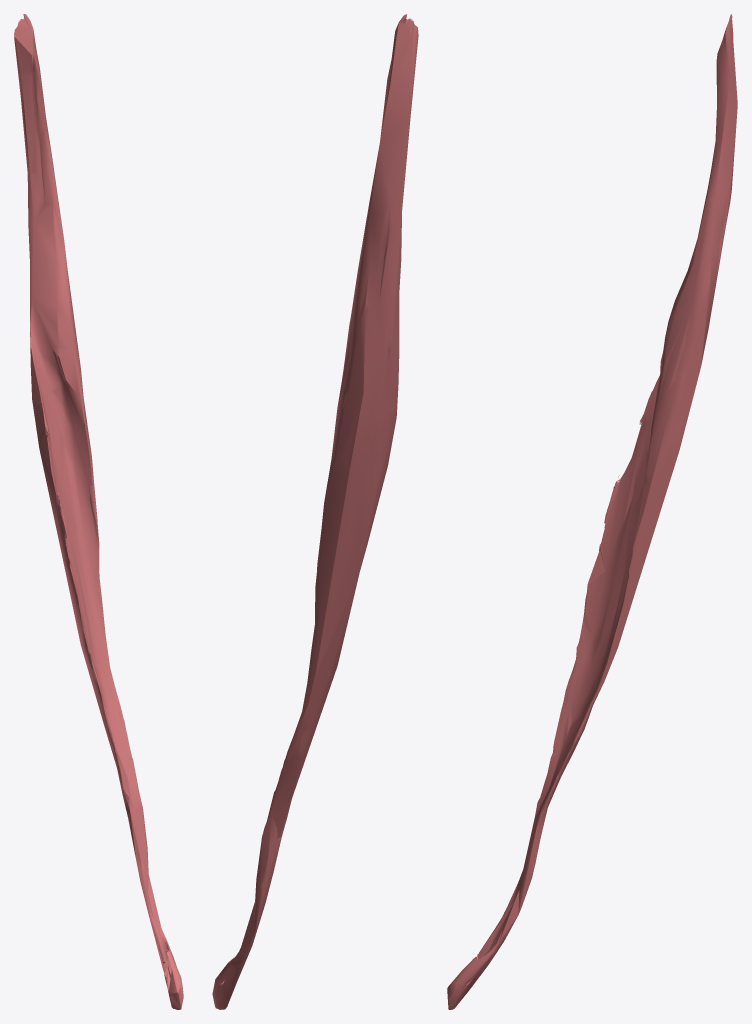
3 renders of one model, left to right at view 1: azimuth 30°, elevation 25°; view 2: azimuth 210°, elevation 25°; view 3: azimuth 270°, elevation 25°, orthographic. The views are drawn at different scales.
Parts seen in each view (by area): view 1: FJ1472M; view 2: FJ1472M; view 3: FJ1472M.
Boxes of the visible parts, x1,y1,x2,y2 form: FJ1472M: (14, 14, 183, 1009); FJ1472M: (212, 14, 418, 1009); FJ1472M: (447, 14, 737, 1009).
Size of the model in its own units: 0.0179 by 0.2862 by 0.0767.
